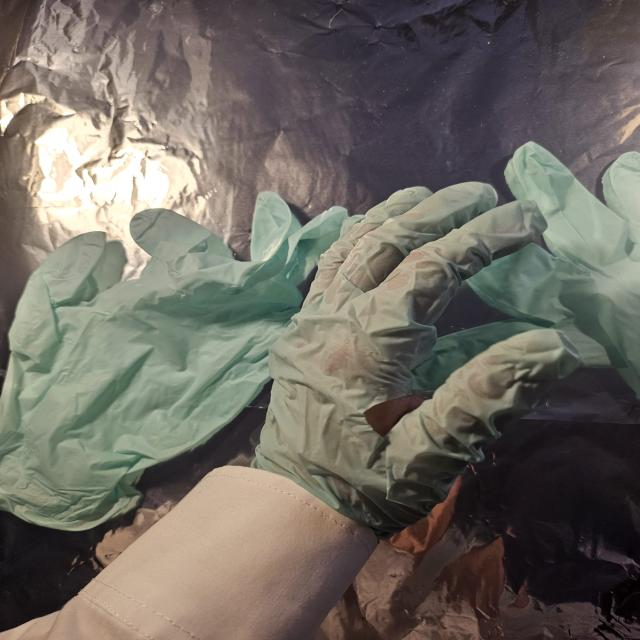gloves_damaged: (244, 182, 586, 544)
